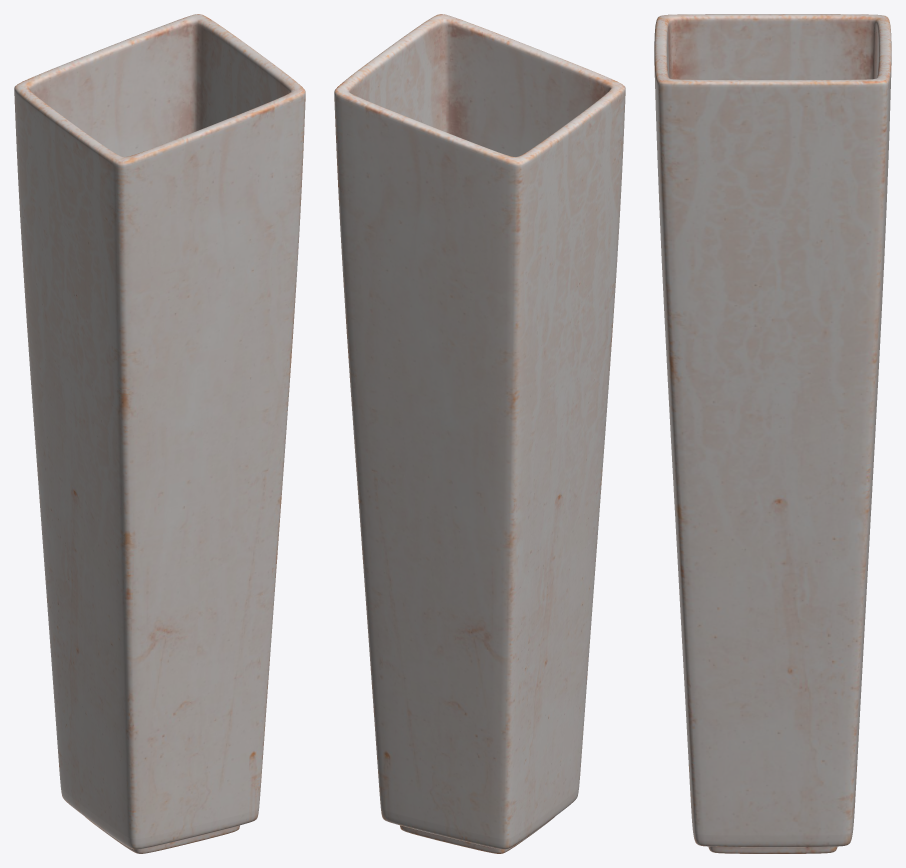
File: ceramic_vase_03.gltf
3 renders of one model, left to right at view 1: azimuth 30°, elevation 25°; view 2: azimuth 150°, elevation 25°; view 3: azimuth 270°, elevation 25°, orthographic. The views are drawn at different scales.
Visible parts, largest first — view 1: ceramic_vase_03; view 2: ceramic_vase_03; view 3: ceramic_vase_03.
Boxes of the visible parts, box(x1,y1,x2,y2) form: ceramic_vase_03: box(14, 14, 305, 853); ceramic_vase_03: box(334, 14, 625, 853); ceramic_vase_03: box(654, 14, 891, 853).
Size of the model in its own units: 0.1122 by 0.4144 by 0.1122.
1 material, 1 textured.
